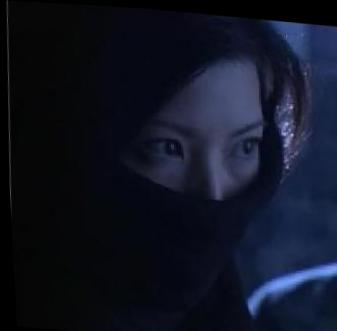WRONG: (106, 83, 274, 288)
